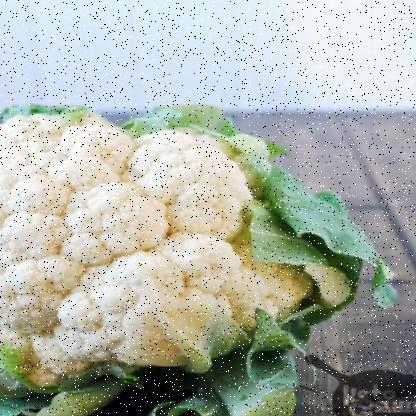cauliflower: (0, 111, 378, 416)
